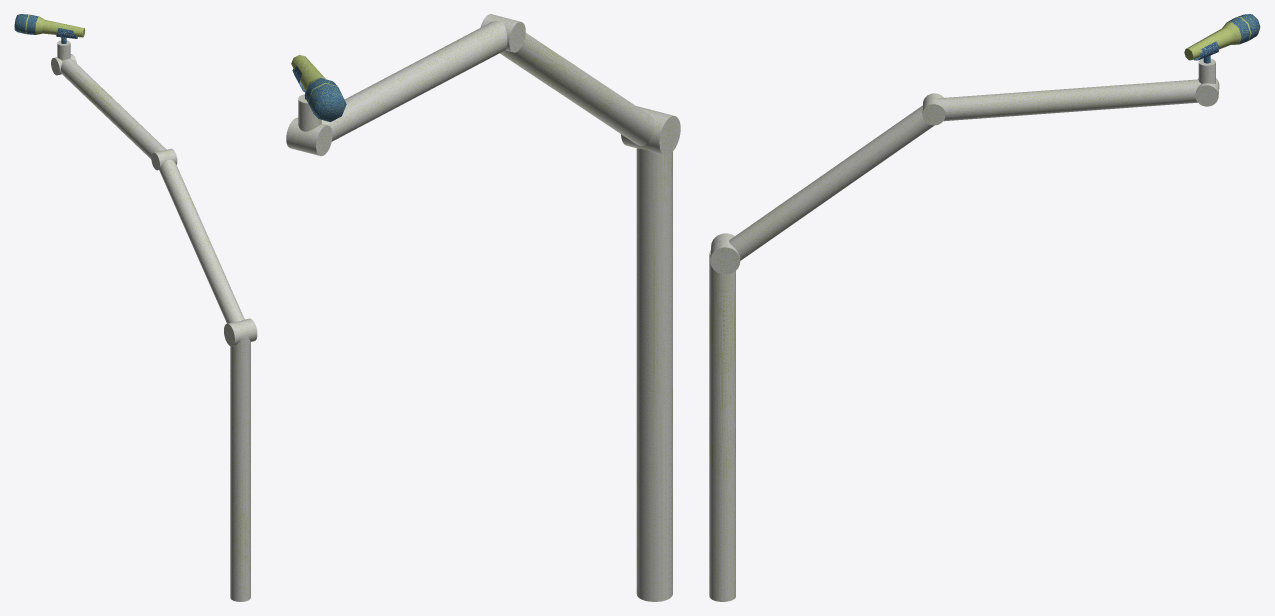
3 renders of one model, left to right at view 1: azimuth 30°, elevation 25°; view 2: azimuth 150°, elevation 25°; view 3: azimuth 270°, elevation 25°, orthographic. The views are drawn at different scales.
Parts seen in each view (by area): view 1: mesh5_mesh5-geometry, mesh4_mesh4-geometry, mesh6_mesh6-geometry, mesh9_mesh9-geometry; view 2: mesh4_mesh4-geometry, mesh5_mesh5-geometry, mesh6_mesh6-geometry, mesh9_mesh9-geometry; view 3: mesh5_mesh5-geometry, mesh4_mesh4-geometry, mesh6_mesh6-geometry, mesh9_mesh9-geometry.
Part boxes in pixels (x1=…): mesh5_mesh5-geometry: x1=57, y1=40, x2=244, y2=323; mesh4_mesh4-geometry: x1=230, y1=336, x2=250, y2=601; mesh6_mesh6-geometry: x1=51, y1=54, x2=257, y2=346; mesh9_mesh9-geometry: x1=14, y1=14, x2=85, y2=37; mesh4_mesh4-geometry: x1=636, y1=148, x2=672, y2=601; mesh5_mesh5-geometry: x1=298, y1=21, x2=654, y2=145; mesh6_mesh6-geometry: x1=286, y1=14, x2=680, y2=156; mesh9_mesh9-geometry: x1=291, y1=54, x2=346, y2=121; mesh5_mesh5-geometry: x1=729, y1=58, x2=1215, y2=260; mesh4_mesh4-geometry: x1=709, y1=251, x2=735, y2=601; mesh6_mesh6-geometry: x1=710, y1=78, x2=1219, y2=274; mesh9_mesh9-geometry: x1=1184, y1=14, x2=1260, y2=60.
Size of the model in its own units: 0.0907 by 0.7498 by 0.6555.
